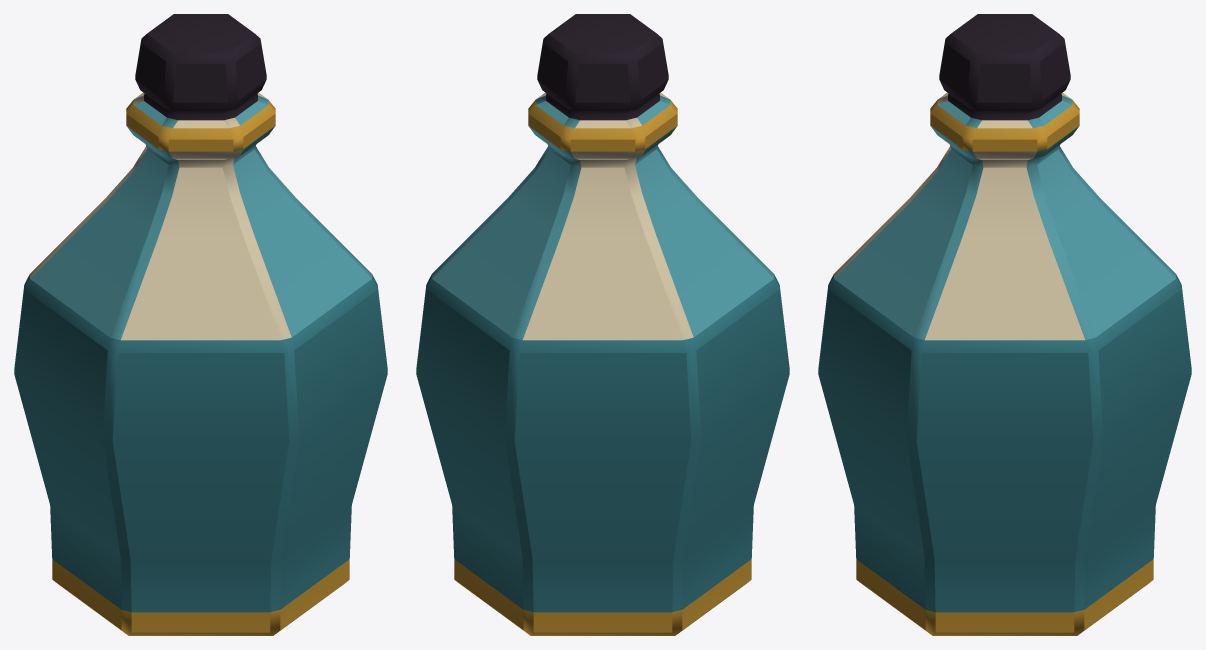
File: Bottle_30.glb
3 views of the same model, side by side, from view 1: azimuth 30°, elevation 25°; view 2: azimuth 150°, elevation 25°; view 3: azimuth 270°, elevation 25° (orthographic).
Visible parts, largest first — view 1: Bottle_30; view 2: Bottle_30; view 3: Bottle_30.
Part boxes in pixels (bbox=[...]): Bottle_30: bbox=[14, 14, 387, 635]; Bottle_30: bbox=[416, 14, 789, 635]; Bottle_30: bbox=[818, 14, 1191, 635].
Size of the model in its own units: 1.24 by 2.31 by 1.4.
